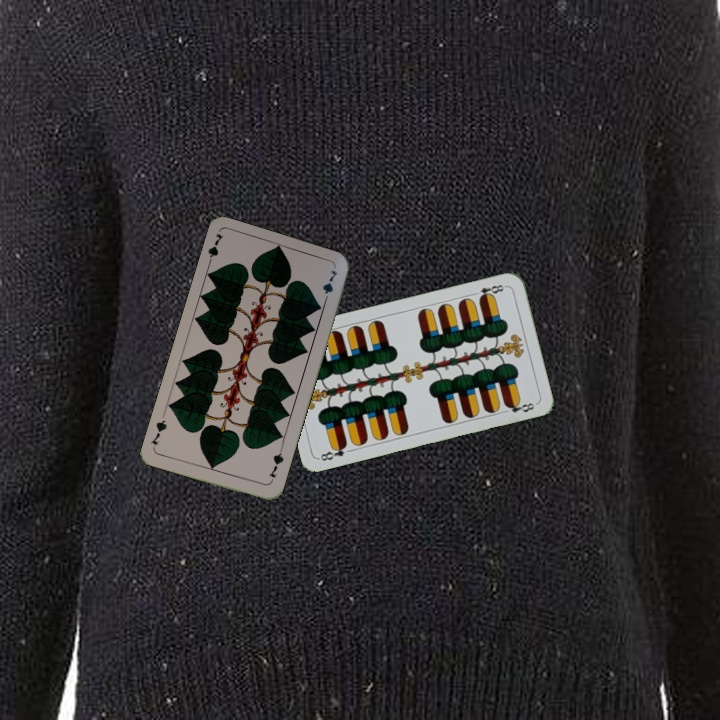E8: (469, 280, 509, 302), (315, 440, 350, 464)
G7: (203, 230, 226, 269), (265, 446, 286, 486)
